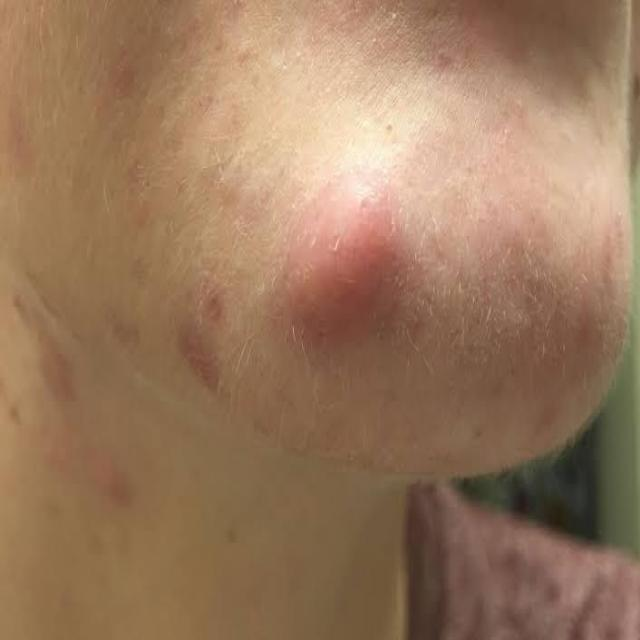nodule: (251, 141, 415, 398)
